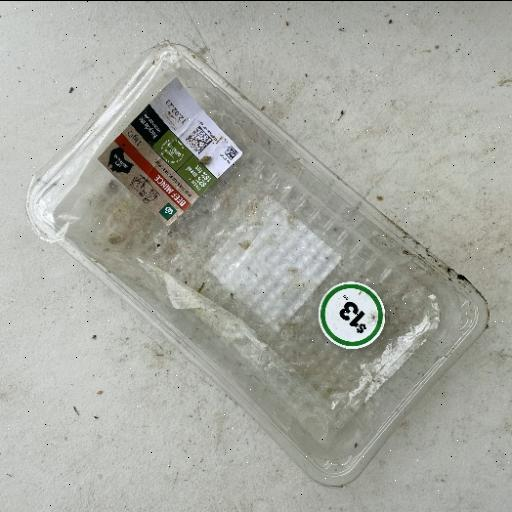Plastic: (24, 40, 490, 488)
